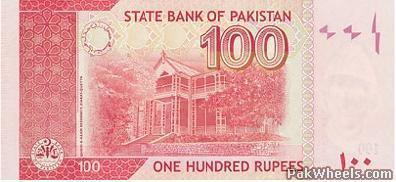100 rupee: (2, 1, 396, 179)
